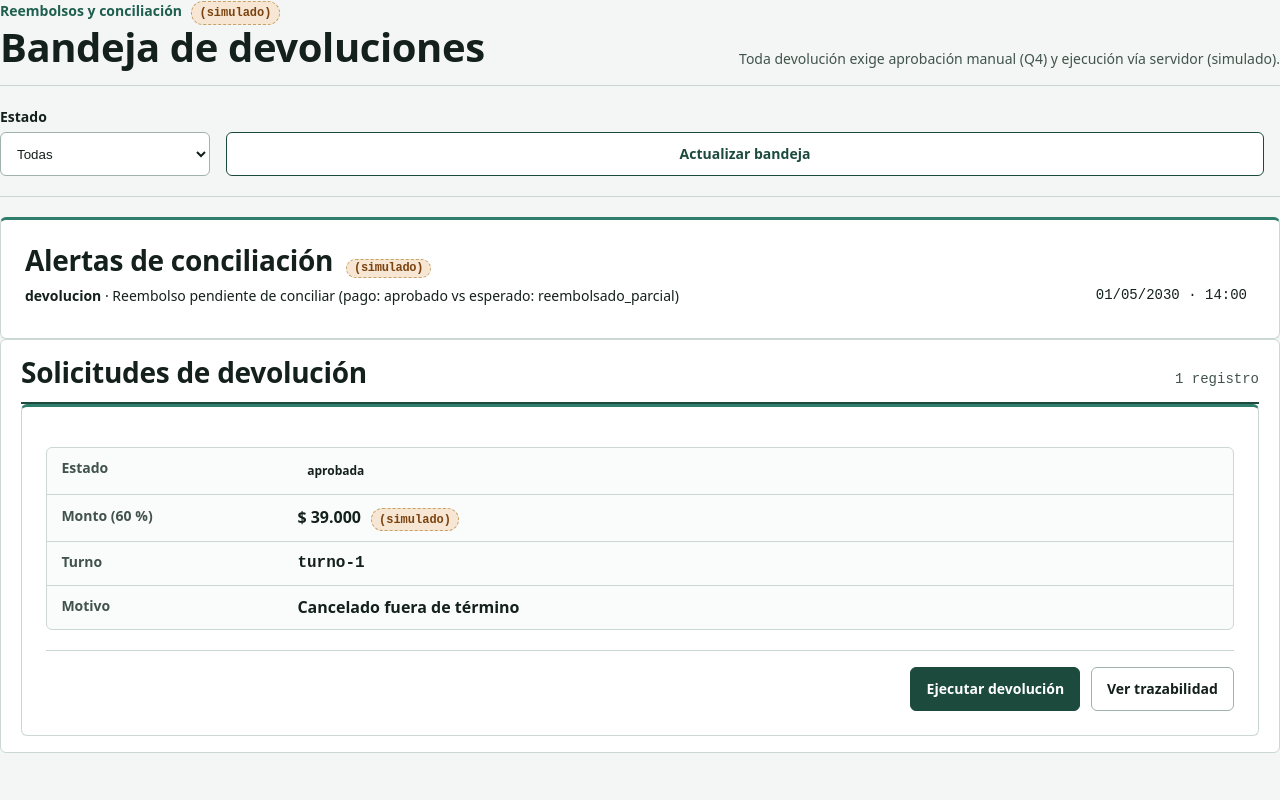
Test case: BandejaPage › ante 503 PROVEEDOR_NO_DISPONIBLE informa error v1 recuperable sin fallback en cliente
Click the button "Ejecutar devolución" at (995, 689), box [910,667,1080,711]
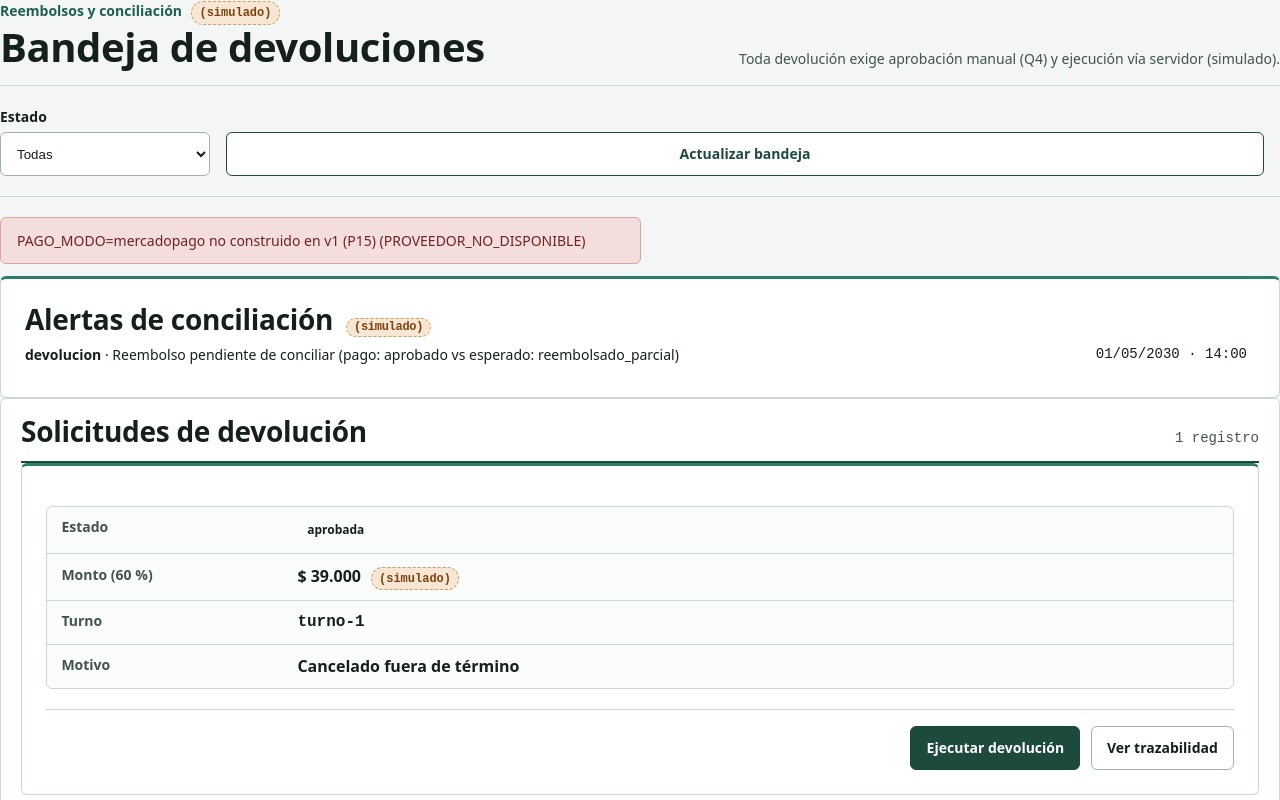
Now the message reads "PAGO_MODO=mercadopago no construido en v1 (P15) (PROVEEDOR_NO_DISPONIBLE)", box [17,231,585,250]
